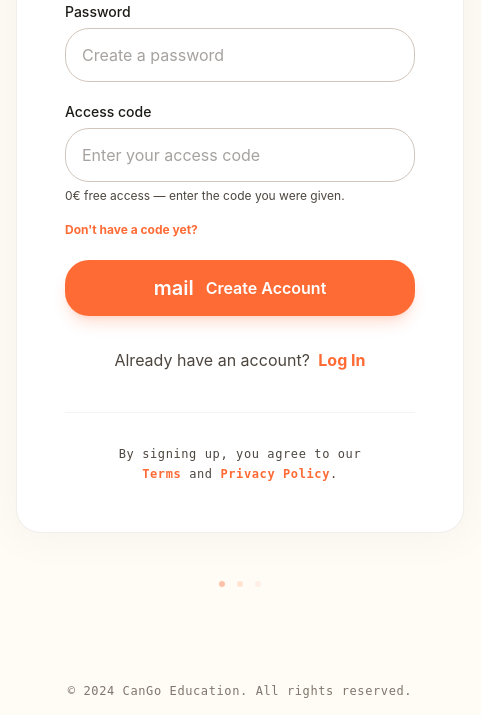
Scenario: 01 — Auth Flow › switches to login mode when clicking Log In
The image size is (481, 715).
(page scrolled)
Click the button "Log In": [342, 360] box x1=318 y1=348 x2=366 y2=372
(page scrolled)
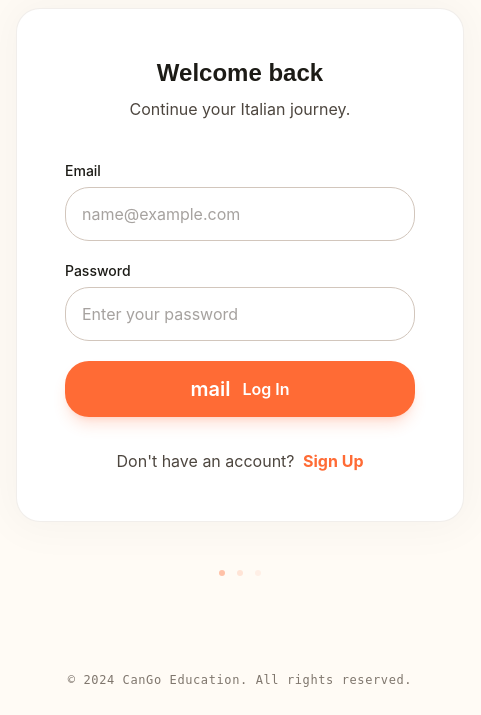
Expected: the heading "Welcome back" is shown, x1=157 y1=59 x2=323 y2=86
Expected: the text "Log In" is shown, x1=242 y1=377 x2=290 y2=401
Expected: the password field with placeholder "Enter your password" is shown, x1=65 y1=287 x2=415 y2=341
